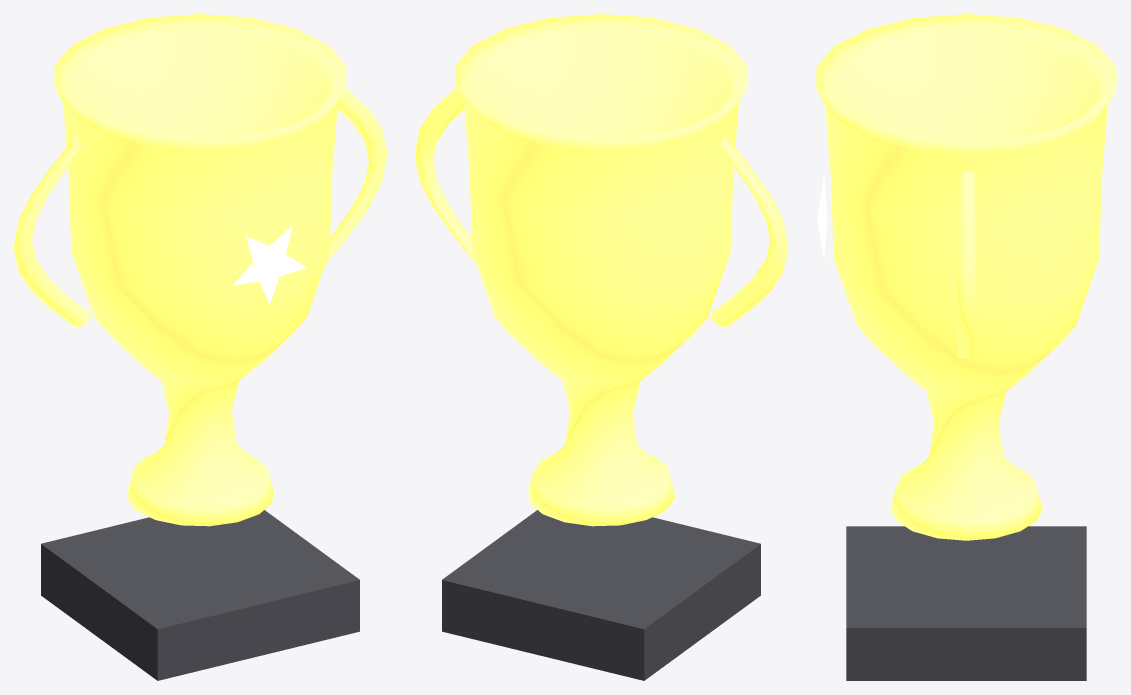
The model's file is Trophy_StarCup.fbx.
3 renders of one model, left to right at view 1: azimuth 30°, elevation 25°; view 2: azimuth 150°, elevation 25°; view 3: azimuth 270°, elevation 25°, orthographic. The views are drawn at different scales.
Parts seen in each view (by area): view 1: GoldenCup, MarbleBase, StarEmblem; view 2: GoldenCup, MarbleBase; view 3: GoldenCup, MarbleBase, StarEmblem.
Part boxes in pixels (bbox=[...]): GoldenCup: bbox=[14, 14, 386, 526]; MarbleBase: bbox=[41, 510, 359, 680]; StarEmblem: bbox=[232, 225, 306, 304]; GoldenCup: bbox=[415, 14, 787, 526]; MarbleBase: bbox=[442, 510, 760, 680]; GoldenCup: bbox=[816, 14, 1116, 540]; MarbleBase: bbox=[846, 526, 1086, 680]; StarEmblem: bbox=[817, 175, 827, 259].
Bounding box in the file's own units: 0.151 × 0.2078 × 0.1024.
